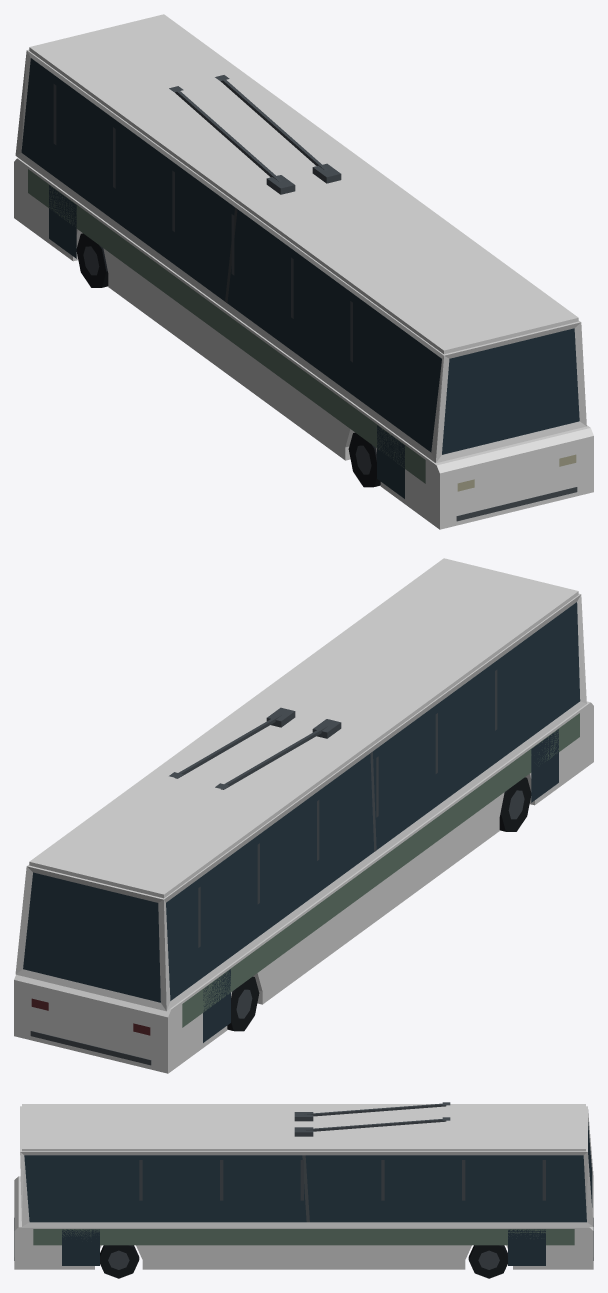
File: sf-trolleybus.glb
3 renders of one model, top to bottom at view 1: azimuth 30°, elevation 25°; view 2: azimuth 150°, elevation 25°; view 3: azimuth 270°, elevation 25°, orthographic. The views are drawn at different scales.
Visible parts, largest first — view 1: vehicle_body; view 2: vehicle_body; view 3: vehicle_body.
Part boxes in pixels (<box>): vehicle_body: <box>14,14,593,529</box>; vehicle_body: <box>14,558,593,1073</box>; vehicle_body: <box>14,1102,593,1278</box>.
Bounding box in the file's own units: 2.55 × 3.3 × 12.22.
